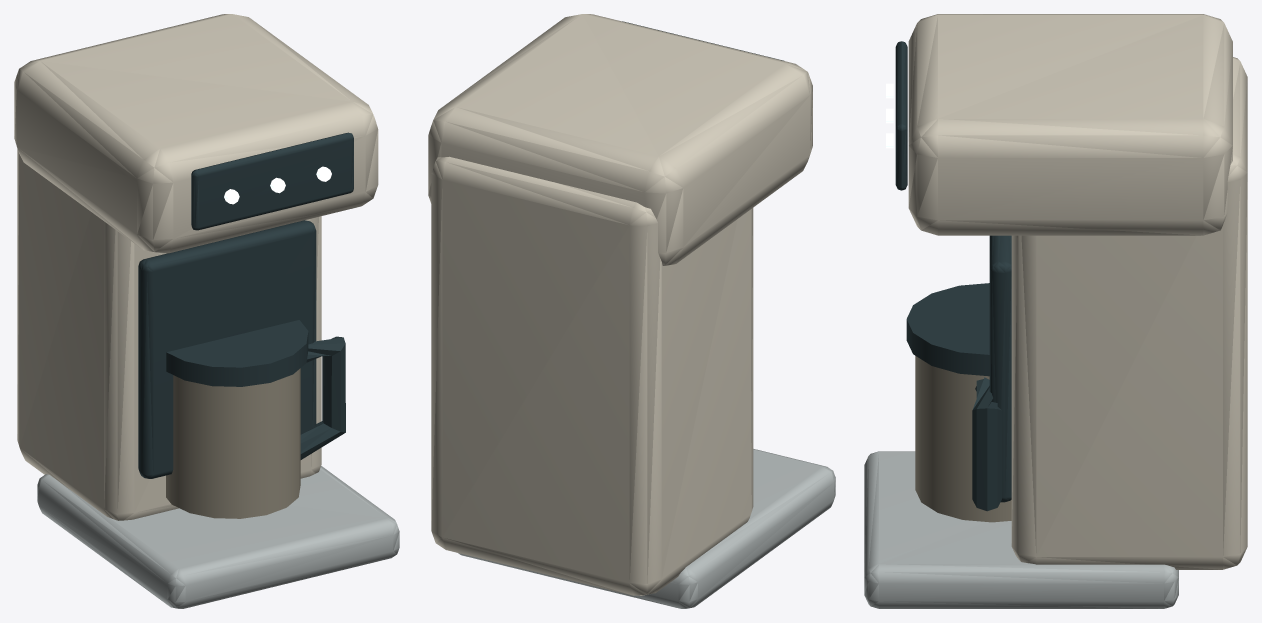
File: 11_standard_coffee_machine.glb
3 renders of one model, left to right at view 1: azimuth 30°, elevation 25°; view 2: azimuth 150°, elevation 25°; view 3: azimuth 270°, elevation 25°, orthographic. The views are drawn at different scales.
Visible parts, largest first — view 1: 11_standard_coffee_machine__Static; view 2: 11_standard_coffee_machine__Static; view 3: 11_standard_coffee_machine__Static.
Boxes of the visible parts, bbox=[...] form: 11_standard_coffee_machine__Static: bbox=[14, 14, 399, 608]; 11_standard_coffee_machine__Static: bbox=[428, 14, 835, 608]; 11_standard_coffee_machine__Static: bbox=[864, 14, 1247, 608].
Bounding box in the file's own units: 0.31 × 0.545 × 0.39.
